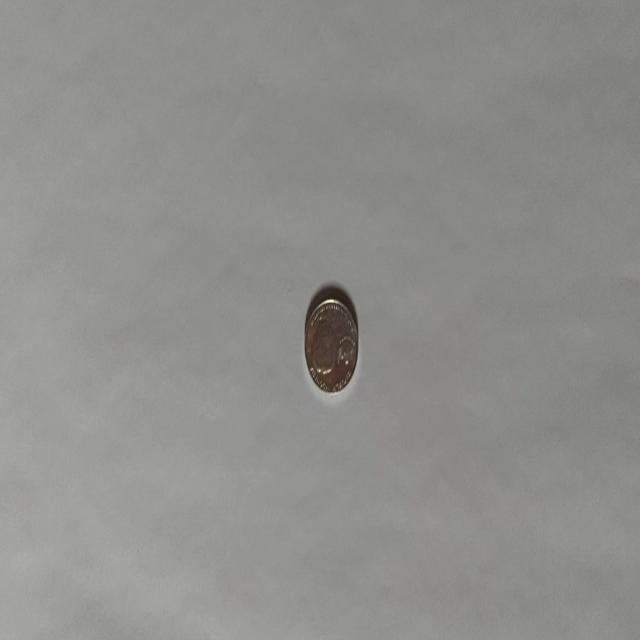seratus rupiah: (304, 296, 358, 394)
